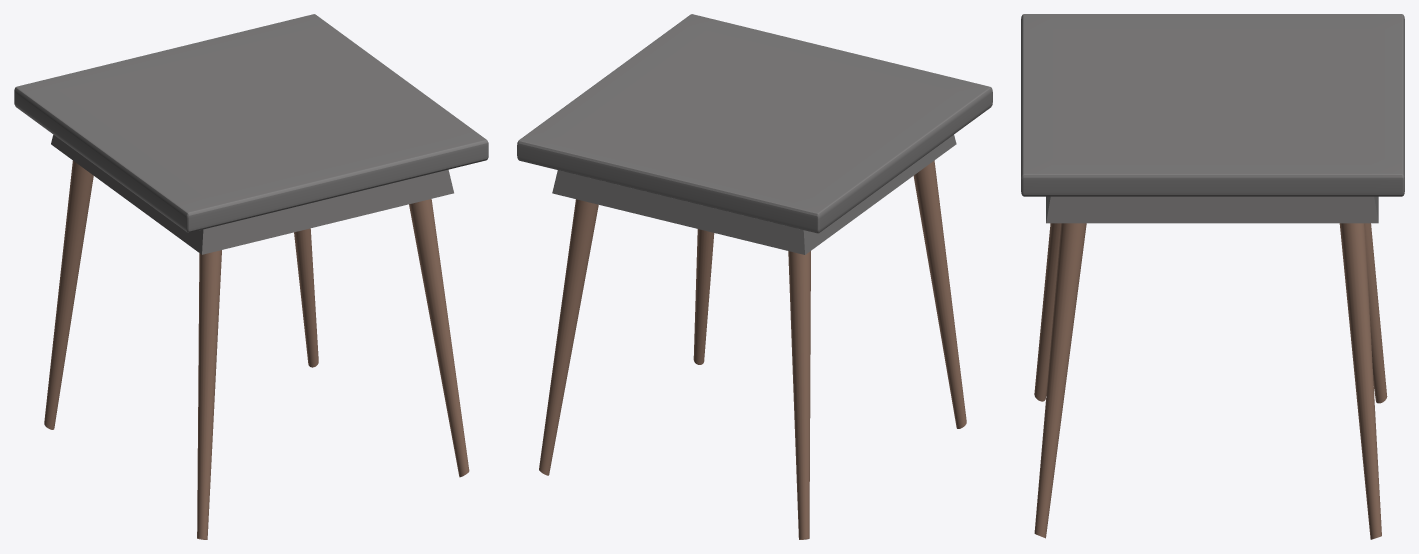
The model's file is Meja Kecil.fbx.
3 views of the same model, side by side, from view 1: azimuth 30°, elevation 25°; view 2: azimuth 150°, elevation 25°; view 3: azimuth 270°, elevation 25° (orthographic). The views are drawn at different scales.
Visible parts, largest first — view 1: pCube59.001; view 2: pCube59.001; view 3: pCube59.001.
Boxes of the visible parts, x1,y1,x2,y2 form: pCube59.001: (14,14,488,539); pCube59.001: (517,14,992,539); pCube59.001: (1021,14,1404,539).
Bounding box in the file's own units: 200 × 216 × 200.
